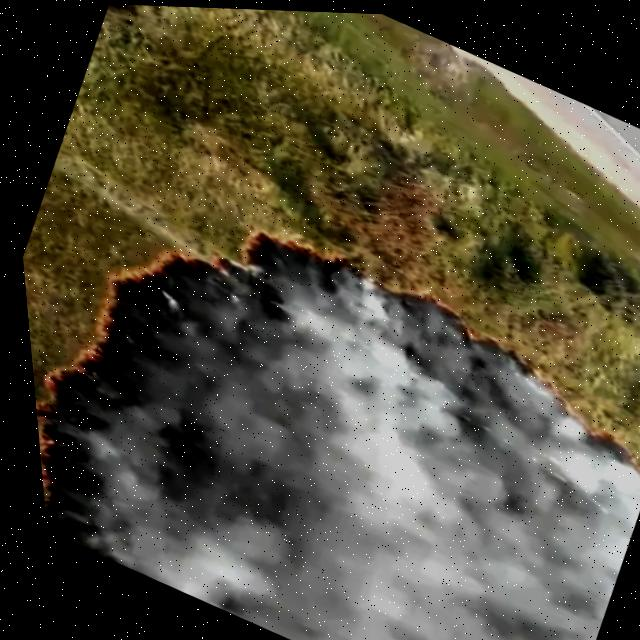Smoke: (13, 185, 640, 640)
